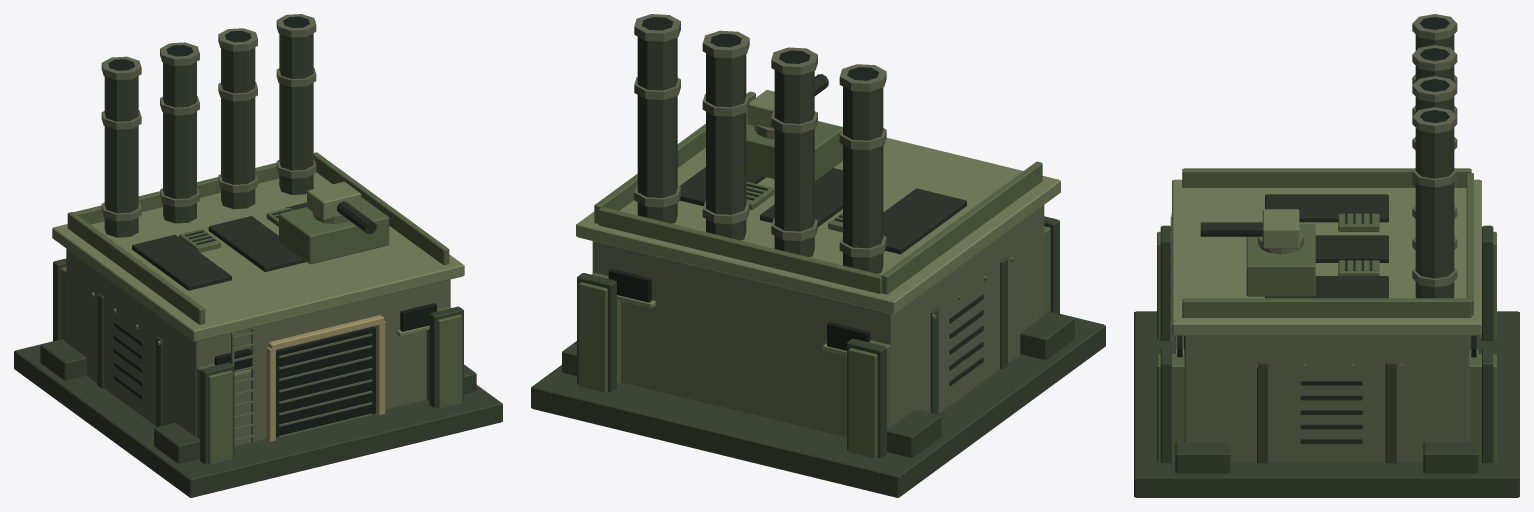
File: garrison_3.obj
3 views of the same model, side by side, from view 1: azimuth 30°, elevation 25°; view 2: azimuth 150°, elevation 25°; view 3: azimuth 270°, elevation 25° (orthographic). The views are drawn at different scales.
Parts seen in each view (by area): view 1: Fortification; view 2: Fortification; view 3: Fortification.
Boxes of the visible parts, x1,y1,x2,y2 form: Fortification: (14, 14, 502, 497); Fortification: (531, 14, 1105, 497); Fortification: (1134, 14, 1519, 497).
Size of the model in its own units: 9.03 by 8.71 by 8.82.
1 material, 1 textured.
